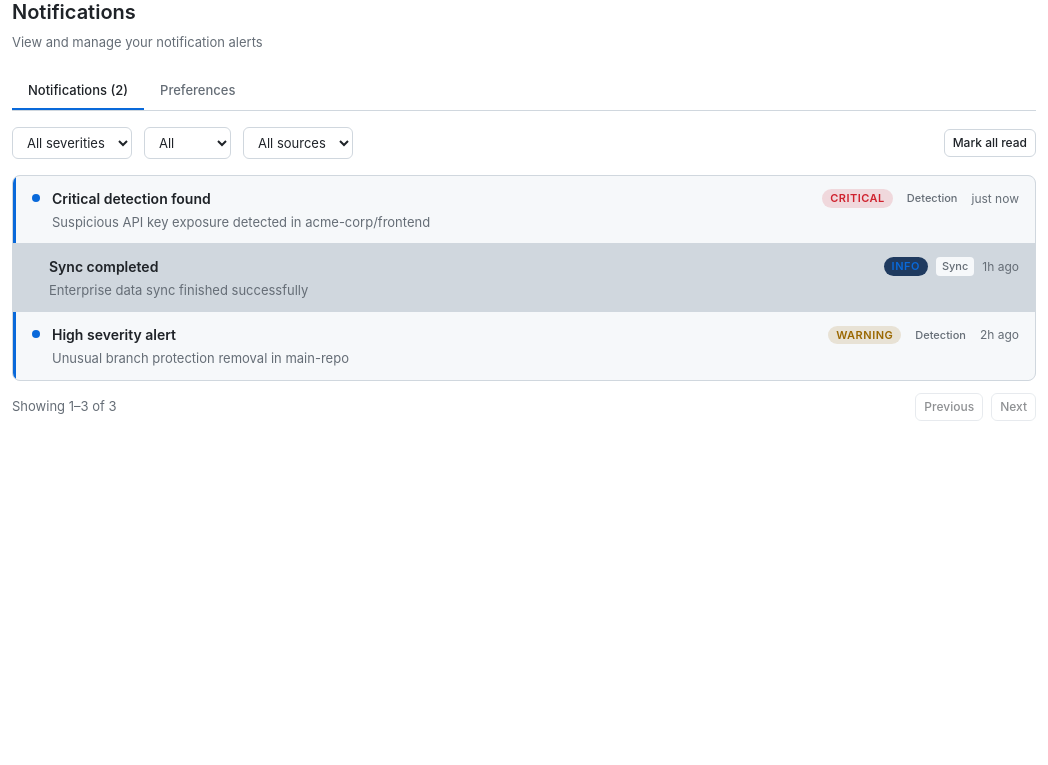
NotificationsPage › shows preference toggles
The width and height of the screenshot is (1048, 765).
Expected: the text "Critical detection found" is shown, [52,188,211,209]
Click the button "Preferences" at coordinates (198, 91), box [144,72,252,110]
(page scrolled)
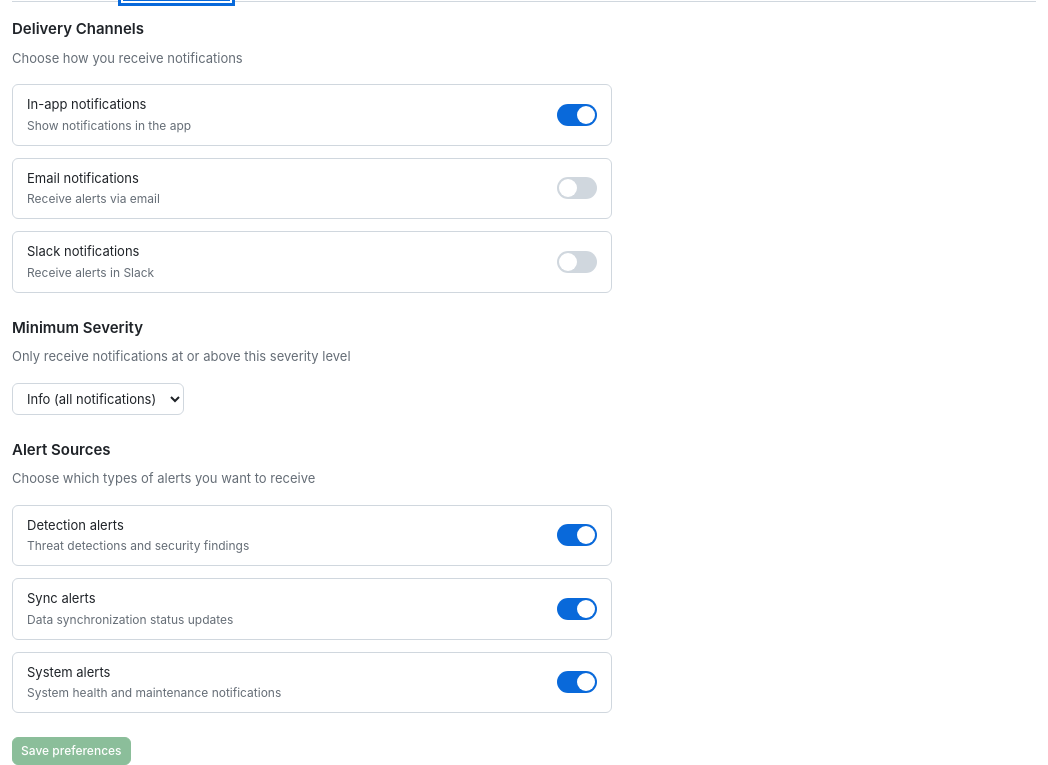
Expected: the switch named "In-app notifications" is shown, [557,104,597,126]
Expected: the switch named "Email notifications" is shown, [557,177,597,199]
Expected: the switch named "Slack notifications" is shown, [557,251,597,273]
